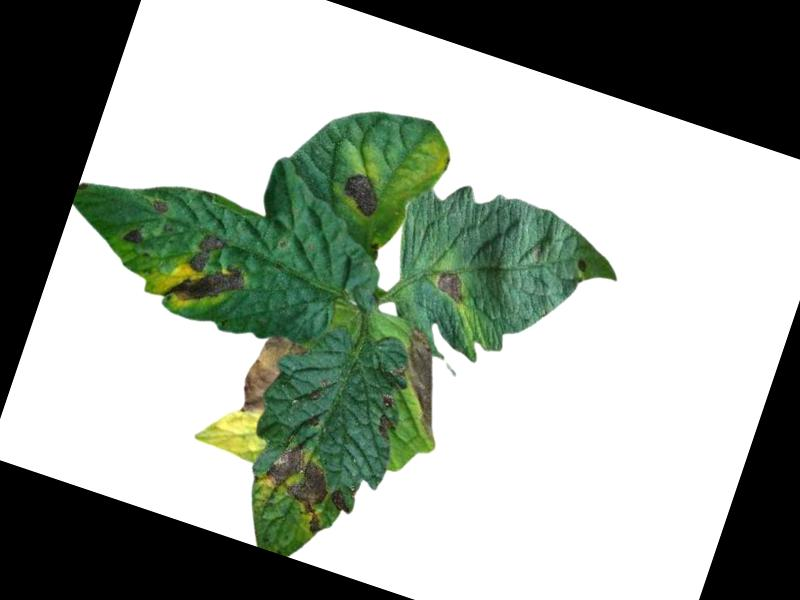Early_blight: (382, 326, 468, 440), (161, 224, 258, 320), (252, 439, 345, 537), (234, 327, 311, 425), (337, 169, 386, 221), (430, 262, 475, 305), (371, 393, 402, 441), (326, 487, 358, 519), (121, 224, 150, 248), (151, 195, 172, 215), (574, 254, 590, 273)
